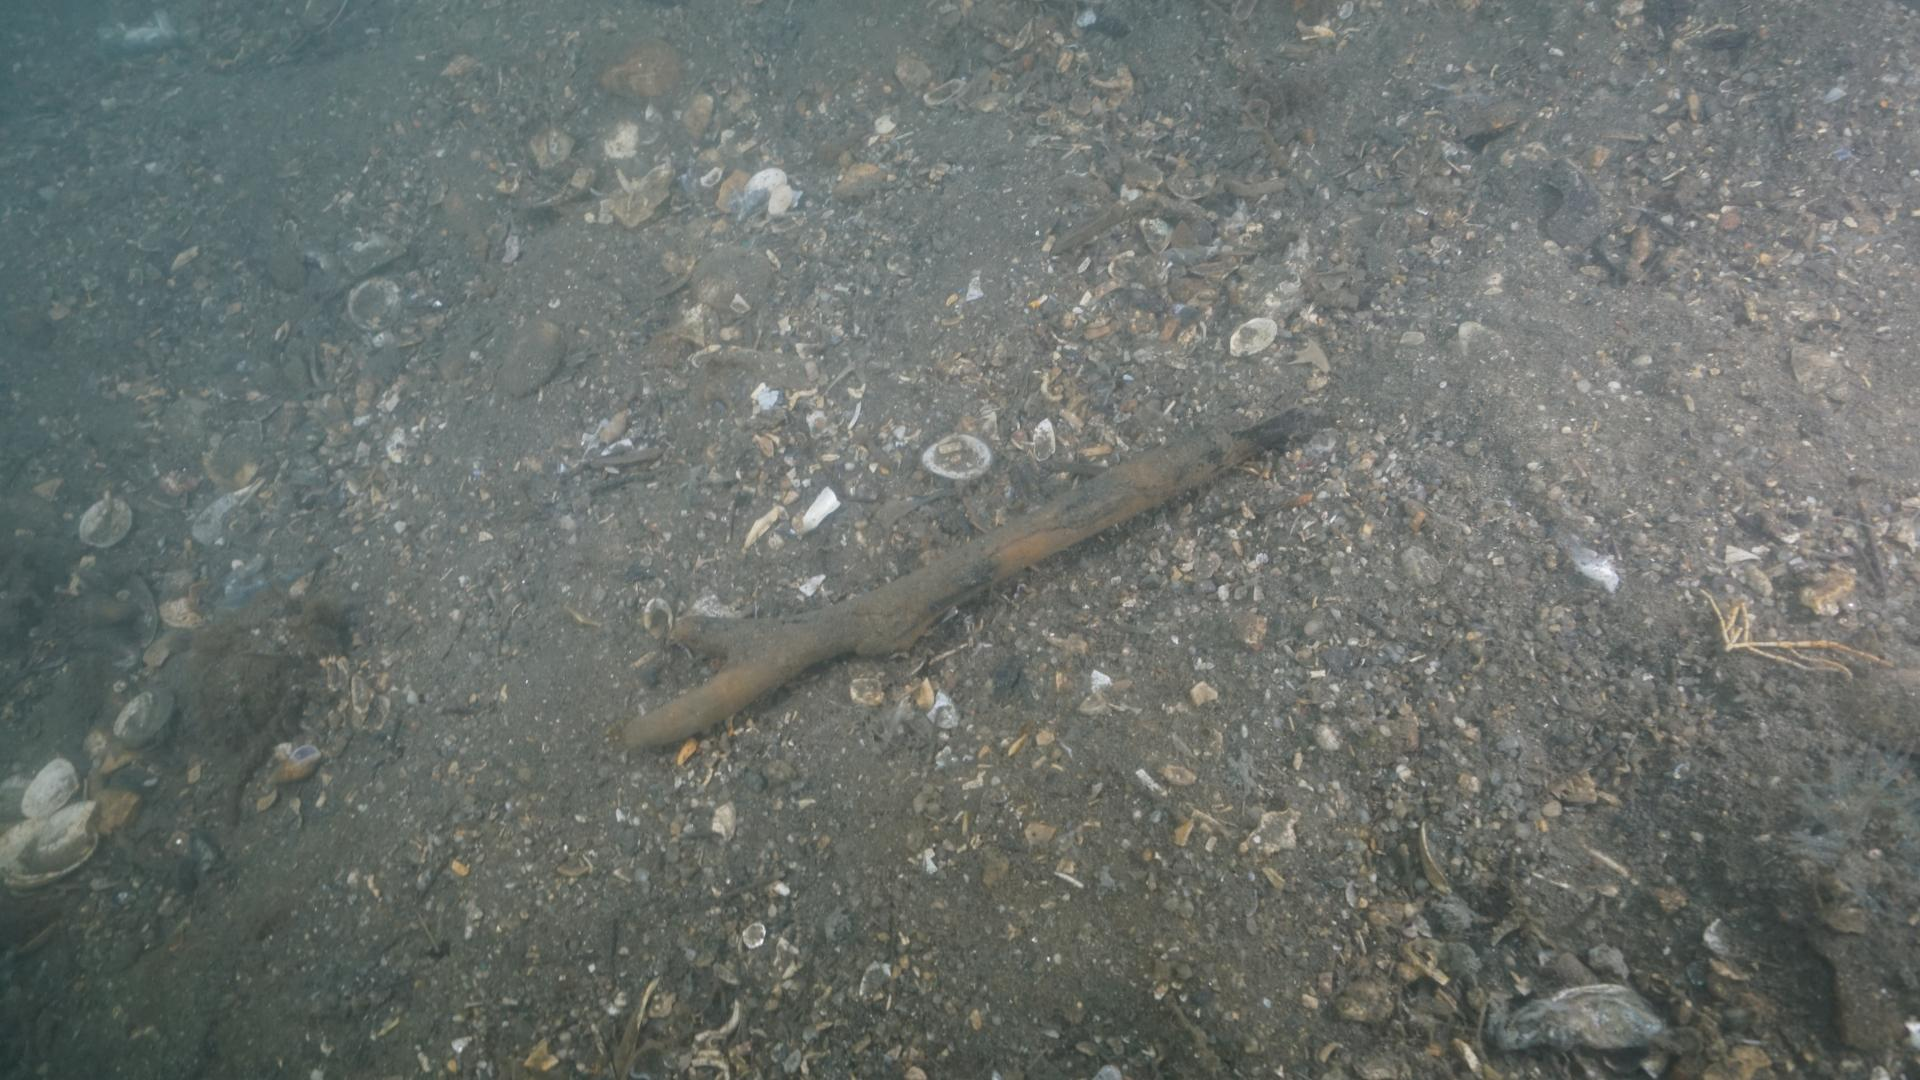wood: (618, 404, 1304, 752)
